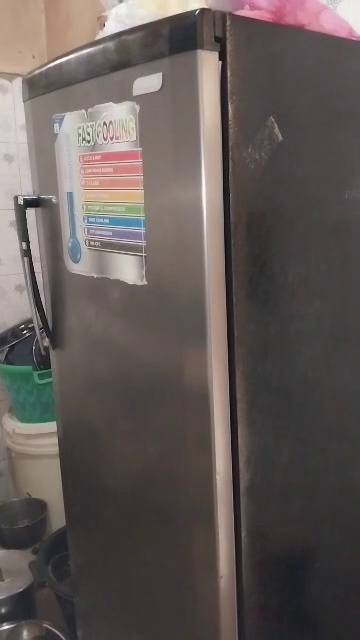refrigerator: (18, 12, 360, 638)
